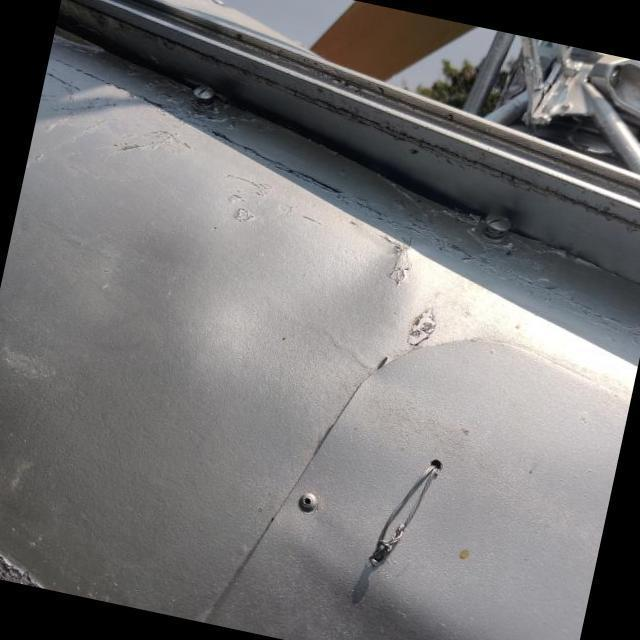dent: (224, 185, 444, 409)
